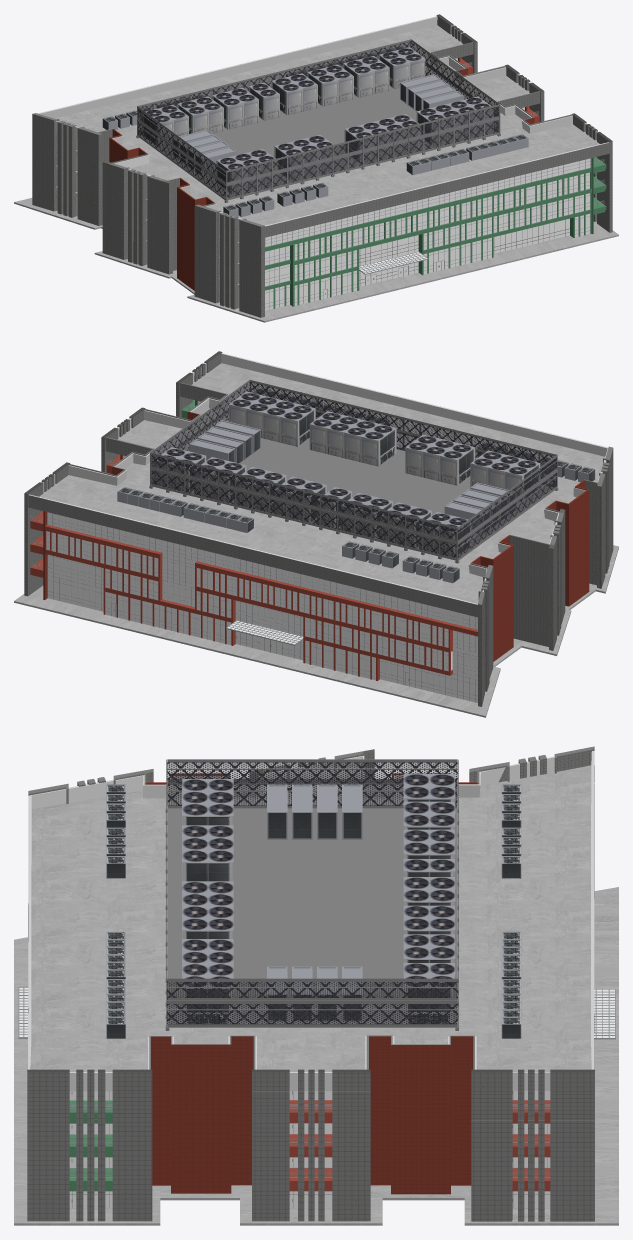
3 renders of one model, top to bottom at view 1: azimuth 30°, elevation 25°; view 2: azimuth 150°, elevation 25°; view 3: azimuth 270°, elevation 25°, orthographic. The views are drawn at different scales.
Visible parts, largest first — view 1: 屋顶.001, 架子, 外立面_1, 外立面_3, 外立面_2, 外立面_4, 地板_1, 地面_4, 地面_3, 地面_2, 顶楼风扇2.021, 顶楼风扇2.029 (+31 smaller); view 2: 屋顶.001, 架子, 外立面_1, 外立面_3, 外立面_2, 外立面_4, 地板_1, 地面_4, 地面_3, 地面_2, 顶楼风扇2.006, 顶楼风扇2.003 (+33 smaller); view 3: 屋顶.001, 架子, 外立面_1, 外立面_2, 外立面_3, 地板_1, 外立面_4, 地面_2, 地面_3, 地面_4, 屋檐, 顶楼风扇2.005 (+36 smaller).
Part boxes in pixels (x1,y1,x2,y2): 屋顶.001: (32, 14, 612, 238); 架子: (136, 39, 500, 202); 外立面_1: (32, 182, 612, 317); 外立面_3: (32, 71, 612, 275); 外立面_2: (32, 162, 612, 295); 外立面_4: (32, 54, 612, 253); 地板_1: (14, 198, 618, 322); 地面_4: (57, 57, 606, 251); 地面_3: (56, 165, 606, 269); 地面_2: (56, 186, 606, 290); 顶楼风扇2.021: (271, 77, 302, 115); 顶楼风扇2.029: (249, 82, 279, 120); 屋顶.001: (24, 351, 613, 618); 架子: (149, 379, 558, 563); 外立面_1: (24, 525, 613, 706); 外立面_3: (24, 414, 613, 659); 外立面_2: (24, 503, 613, 681); 外立面_4: (24, 396, 613, 635); 地板_1: (14, 545, 618, 717); 地面_4: (30, 399, 477, 636); 地面_3: (30, 535, 449, 652); 地面_2: (30, 558, 452, 675); 顶楼风扇2.006: (361, 424, 396, 466); 顶楼风扇2.003: (440, 443, 475, 485); 屋顶.001: (27, 746, 594, 1091); 架子: (165, 759, 458, 1030); 外立面_1: (27, 862, 594, 1221); 外立面_2: (27, 829, 594, 1187); 外立面_3: (27, 794, 594, 1153); 地板_1: (14, 887, 618, 1225); 外立面_4: (27, 772, 594, 1119); 地面_2: (69, 1168, 550, 1191); 地面_3: (69, 1134, 550, 1157); 地面_4: (69, 1100, 550, 1123); 屋檐: (18, 986, 615, 1039); 顶楼风扇2.005: (182, 850, 233, 889).
Bounding box in the file's own units: 124 × 32.61 × 94.25.
15 materials, 10 textured.
